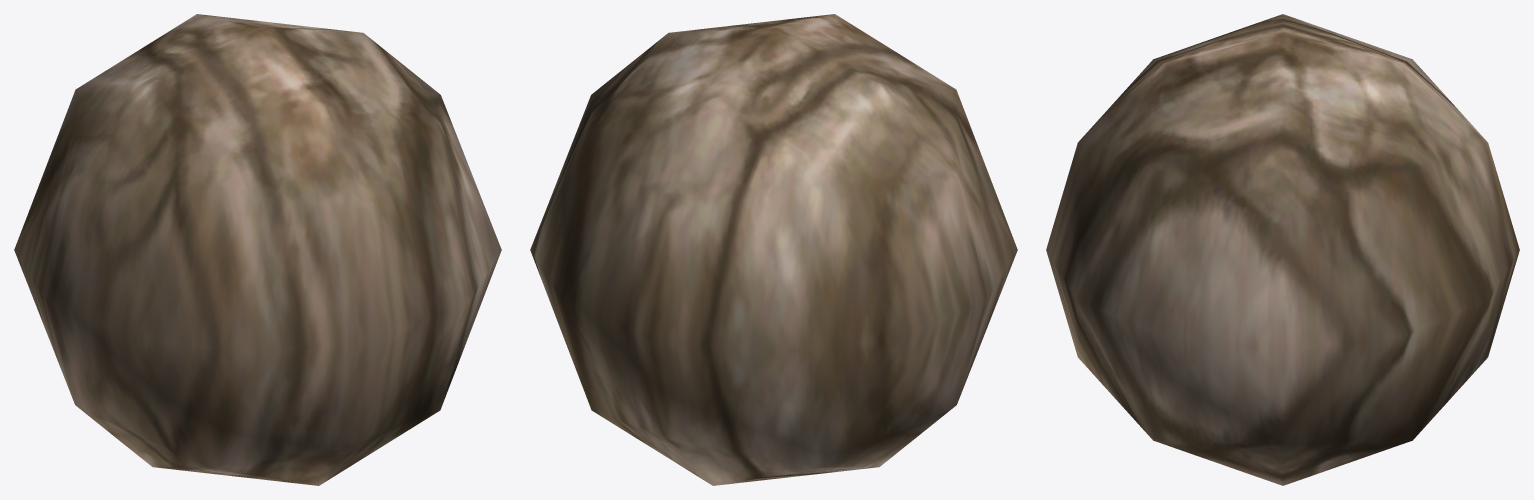
The model's file is BOULDER_01.fbx.
3 views of the same model, side by side, from view 1: azimuth 30°, elevation 25°; view 2: azimuth 150°, elevation 25°; view 3: azimuth 270°, elevation 25° (orthographic). The views are drawn at different scales.
Parts seen in each view (by area): view 1: BOULDER_01; view 2: BOULDER_01; view 3: BOULDER_01.
Part boxes in pixels (x1,y1,x2,y2): BOULDER_01: [14, 14, 501, 485]; BOULDER_01: [530, 14, 1017, 485]; BOULDER_01: [1046, 14, 1519, 485].
Size of the model in its own units: 13377 by 13377 by 13377.
Materials: 1 (1 with a texture image).
